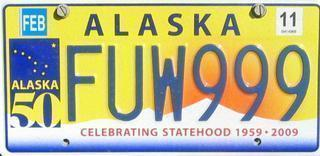placa de veiculo: (4, 1, 319, 152)
